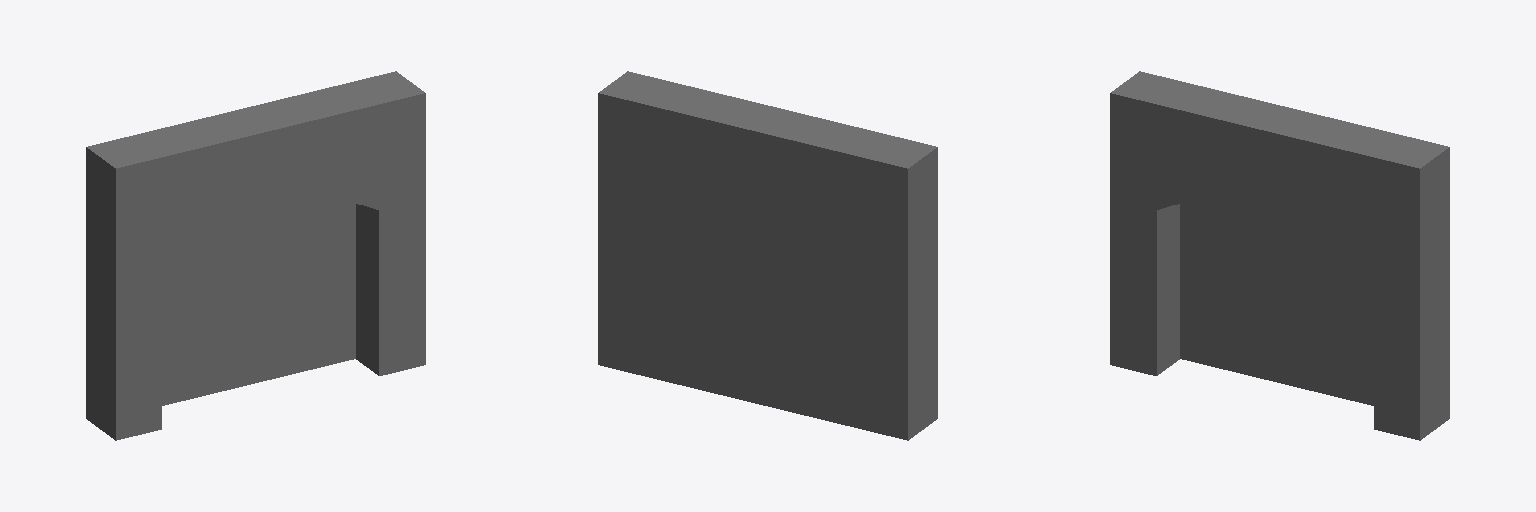
File: wall.obj
3 views of the same model, side by side, from view 1: azimuth 30°, elevation 25°; view 2: azimuth 150°, elevation 25°; view 3: azimuth 330°, elevation 25° (orthographic).
Parts seen in each view (by area): view 1: wall; view 2: wall; view 3: wall.
Boxes of the visible parts, x1=… form: wall: x1=86, y1=71, x2=425, y2=440; wall: x1=598, y1=71, x2=937, y2=440; wall: x1=1110, y1=71, x2=1449, y2=440.
Bounding box in the file's own units: 300 × 252 × 50.